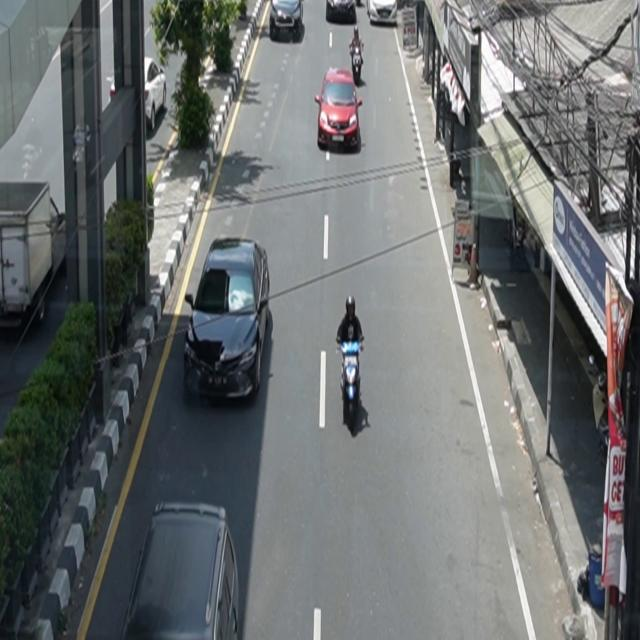car: (121, 501, 241, 640), (184, 238, 271, 405), (110, 57, 168, 132), (315, 67, 363, 153), (270, 1, 304, 42), (368, 1, 399, 26), (327, 1, 358, 24)
truck: (1, 180, 67, 331)
